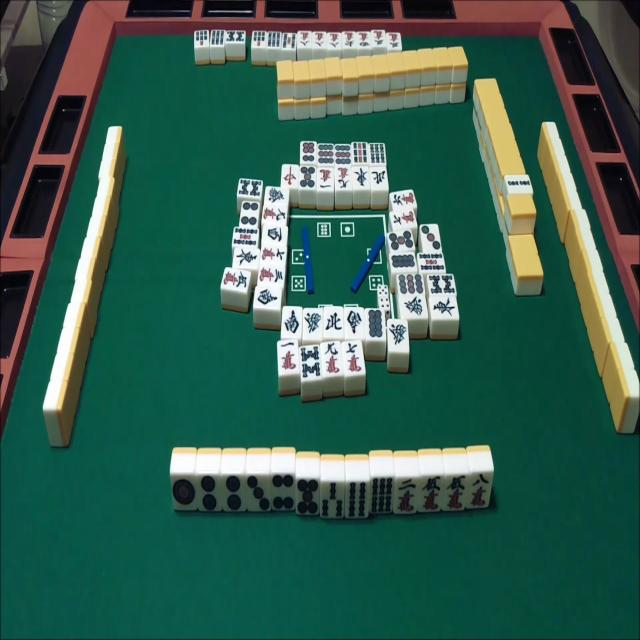east: (430, 294, 459, 319), (234, 248, 258, 266), (353, 169, 369, 191)
fa: (388, 320, 408, 352), (400, 294, 424, 320), (304, 307, 323, 338), (267, 186, 286, 202)
m1: (278, 342, 298, 375), (317, 167, 333, 191)
m2: (396, 479, 419, 515)
m3: (258, 266, 284, 288), (387, 32, 401, 50)
m5: (445, 477, 469, 512), (420, 478, 443, 514), (223, 268, 247, 290)
m6: (390, 189, 417, 212)
m7: (344, 340, 364, 374), (391, 210, 416, 230), (262, 246, 286, 266)
m8: (468, 474, 491, 508)
m9: (322, 342, 342, 376), (262, 204, 287, 224), (337, 168, 352, 191)
north: (324, 307, 343, 337), (369, 167, 387, 189)
s1: (300, 166, 317, 190)
s2: (504, 176, 532, 192)
s3: (322, 482, 346, 520)
s4: (347, 483, 369, 521)
s5: (417, 252, 447, 273), (232, 226, 260, 245)
s6: (371, 479, 395, 517), (368, 142, 386, 166)
s8: (300, 344, 322, 380), (429, 274, 456, 294), (239, 179, 263, 198)
s9: (352, 142, 369, 164)
south: (281, 308, 301, 341), (346, 307, 366, 338), (255, 288, 280, 308)
t1: (174, 474, 202, 512)
t2: (198, 474, 222, 512), (223, 475, 247, 512)
t3: (248, 476, 272, 513), (418, 223, 442, 252)
t4: (272, 476, 296, 514), (240, 200, 259, 225)
t5: (297, 478, 320, 515), (384, 230, 415, 253), (300, 166, 317, 190)
t6: (301, 140, 317, 163)
t8: (366, 307, 384, 338), (390, 253, 417, 270)
t9: (398, 274, 424, 296), (335, 144, 352, 164), (317, 143, 333, 164)
west: (264, 226, 285, 247)
zhong: (282, 165, 298, 189)
